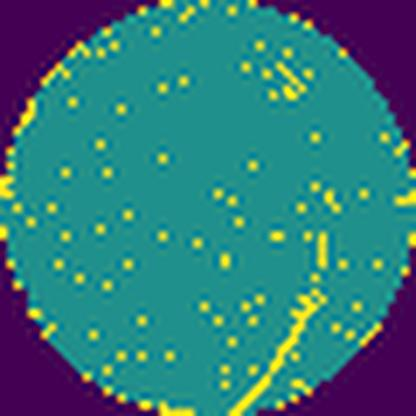Scratch: (223, 284, 331, 416)
